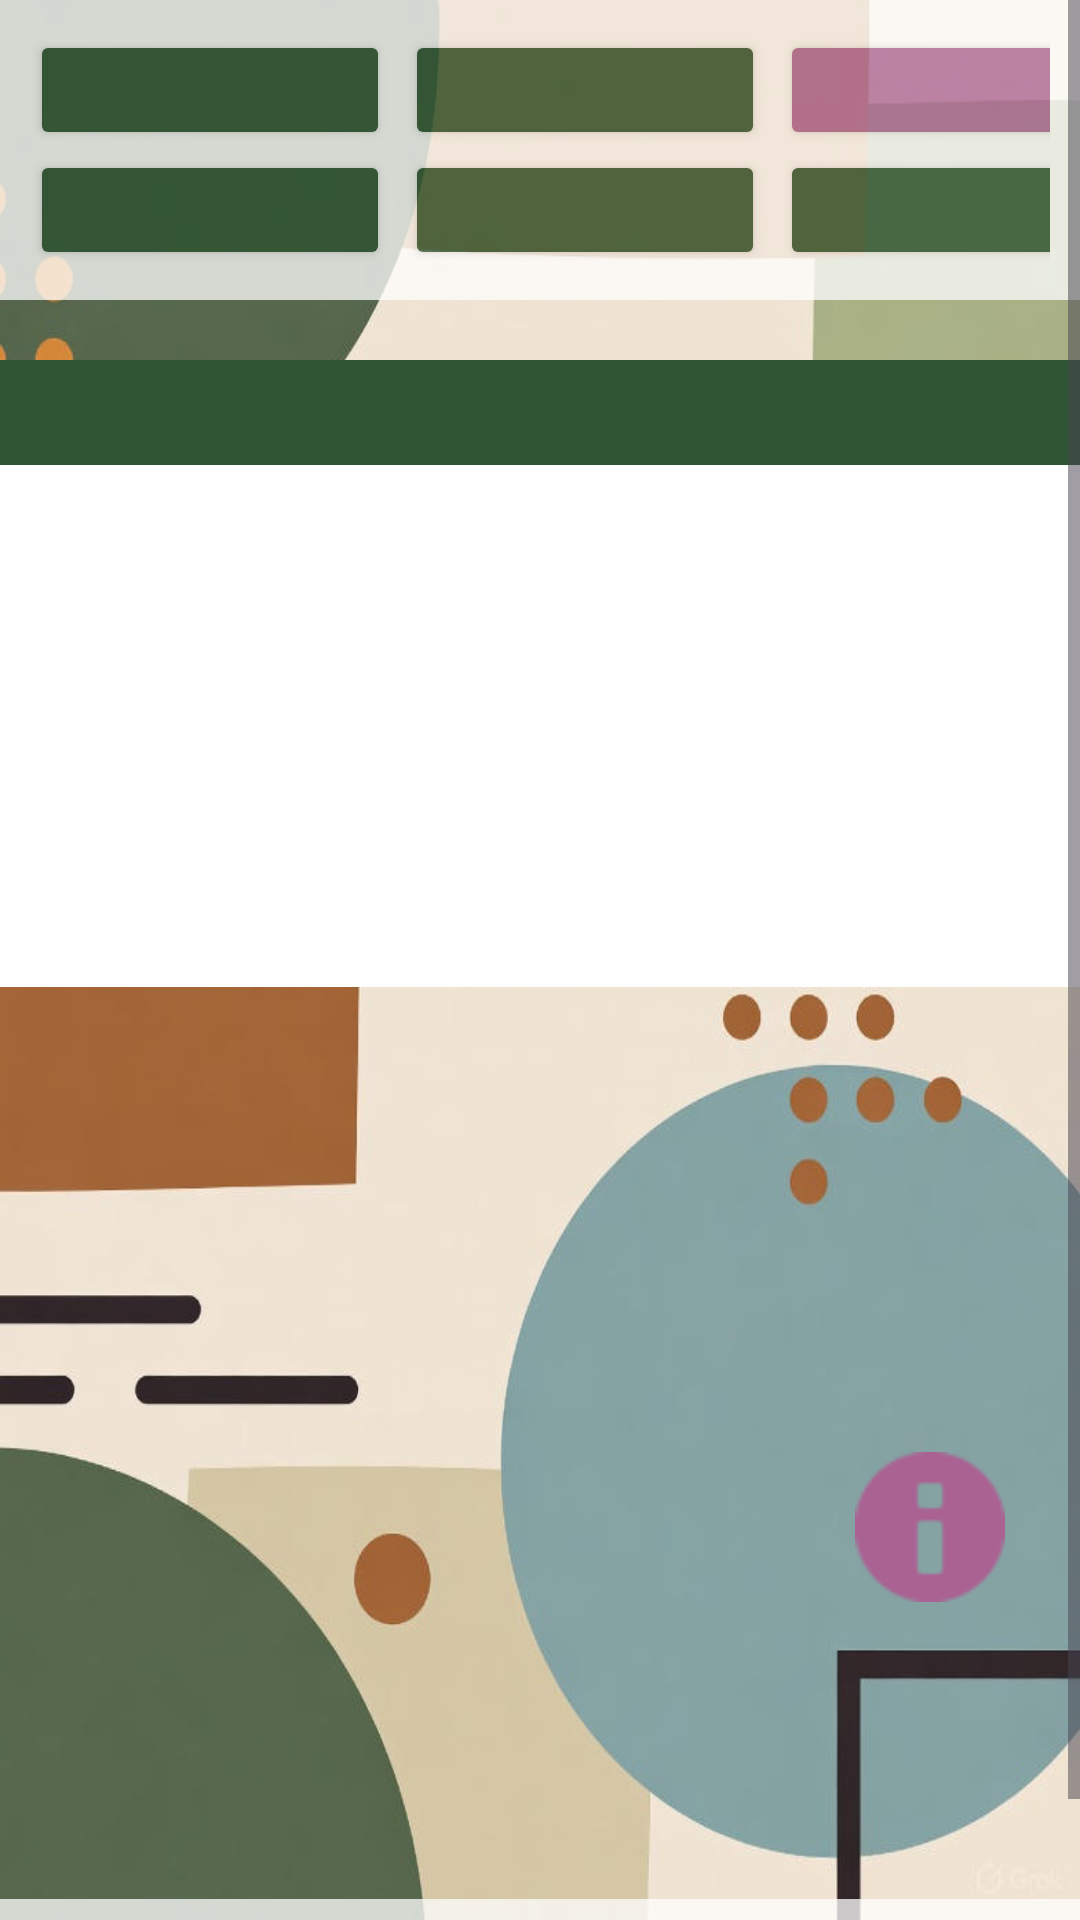

Icons on this 1080px×1920px Android screen, each with its box as bbox=(x1, y1, x2, y2):
info: bbox=(855, 1452, 1005, 1602)
